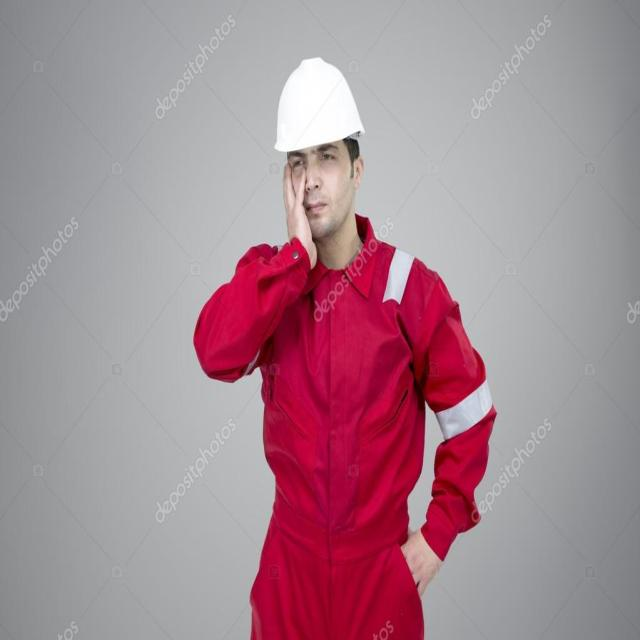helmet: (275, 59, 361, 151)
no-goggles: (284, 152, 363, 170)
